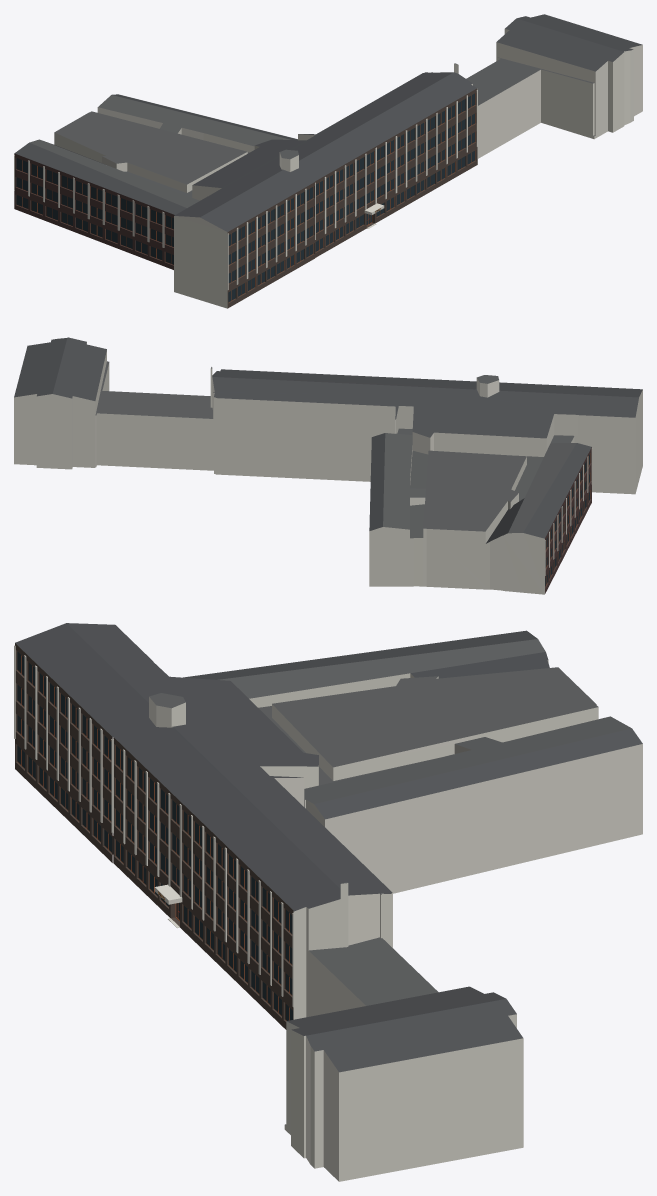
File: recipe-large-spinoza-lyceum-129398.glb
The picture shows the model from 3 angles, top to bottom: view 1: azimuth 30°, elevation 25°; view 2: azimuth 150°, elevation 25°; view 3: azimuth 270°, elevation 25°; orthographic projection. The views are drawn at different scales.
Visible parts, largest first — view 1: spinoza-lyceum-129398; view 2: spinoza-lyceum-129398; view 3: spinoza-lyceum-129398.
Boxes of the visible parts, box(x1,y1,x2,y2) form: spinoza-lyceum-129398: box(14, 14, 642, 308); spinoza-lyceum-129398: box(14, 337, 642, 594); spinoza-lyceum-129398: box(14, 623, 642, 1181).
Size of the model in its own units: 116 by 18.28 by 67.02.
